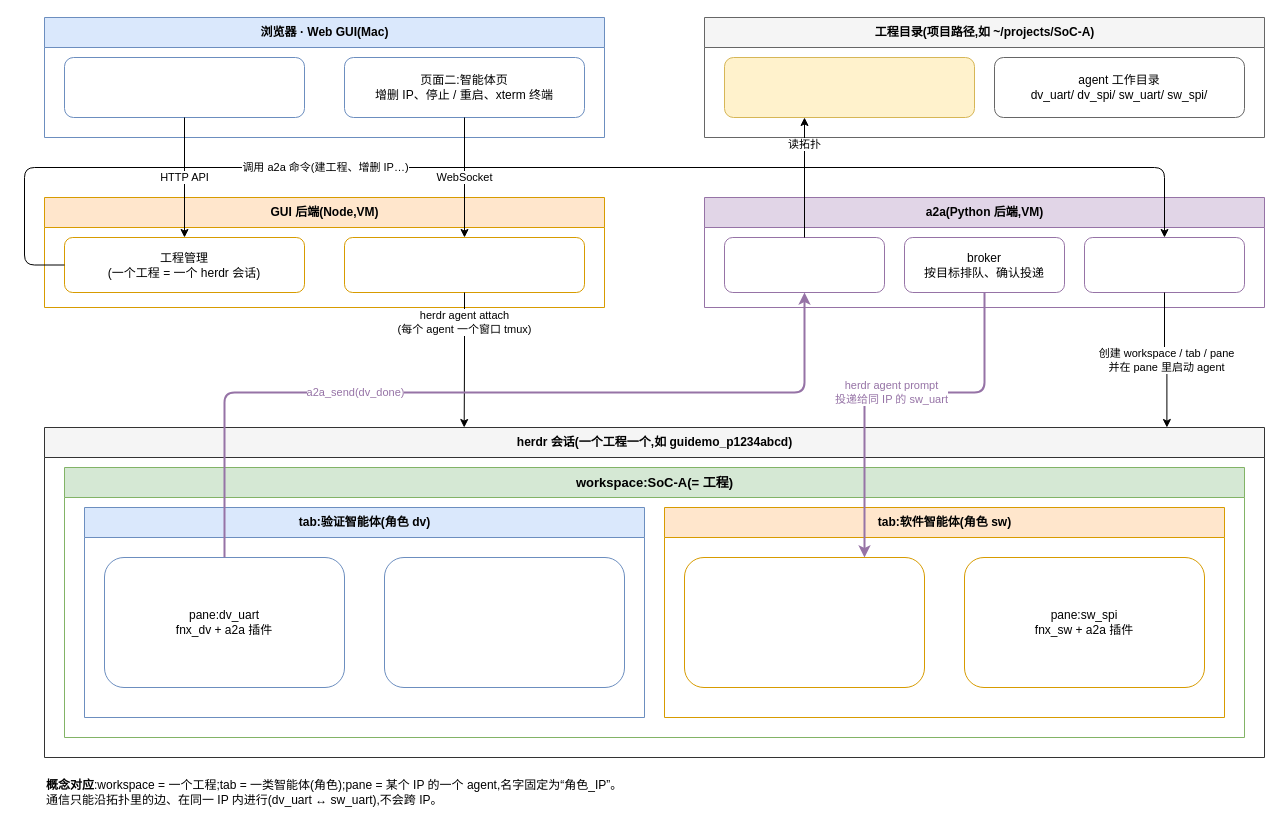
The diagram is 1282 pixels wide and 835 high, and some of its shapes have lost their labels. The shapes that lost their labels are listed below. From the top down, each one's centre as x and y in pixels, then its label:
At (184,87): "页面一:工程列表 新建 / 删除 / 恢复工程".
At (849,87): "topology.yaml 角色、IP、通信边、消息模板(可动态修改)".
At (464,264): "终端桥 窗口 tmux + node-pty + WebSocket".
At (804,264): "Router 身份核验、推算目标".
At (1164,264): "生命周期 ip add / remove、恢复".
At (504,622): "pane:dv_spi fnx_dv + a2a 插件".
At (804,622): "pane:sw_uart fnx_sw + a2a 插件".
